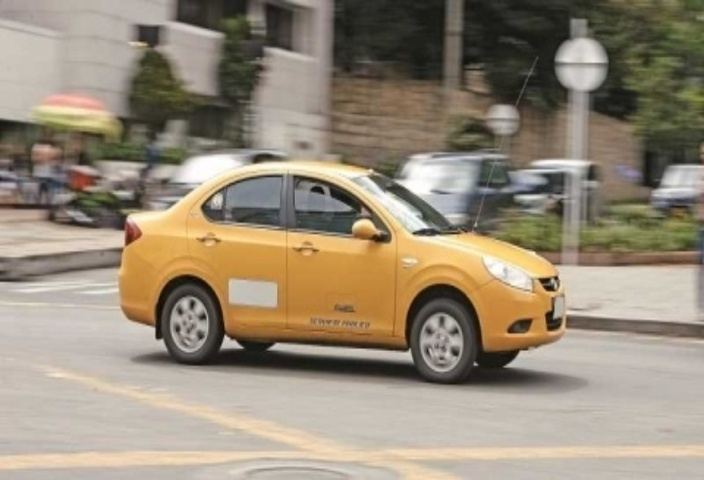taxi: (110, 160, 574, 388)
